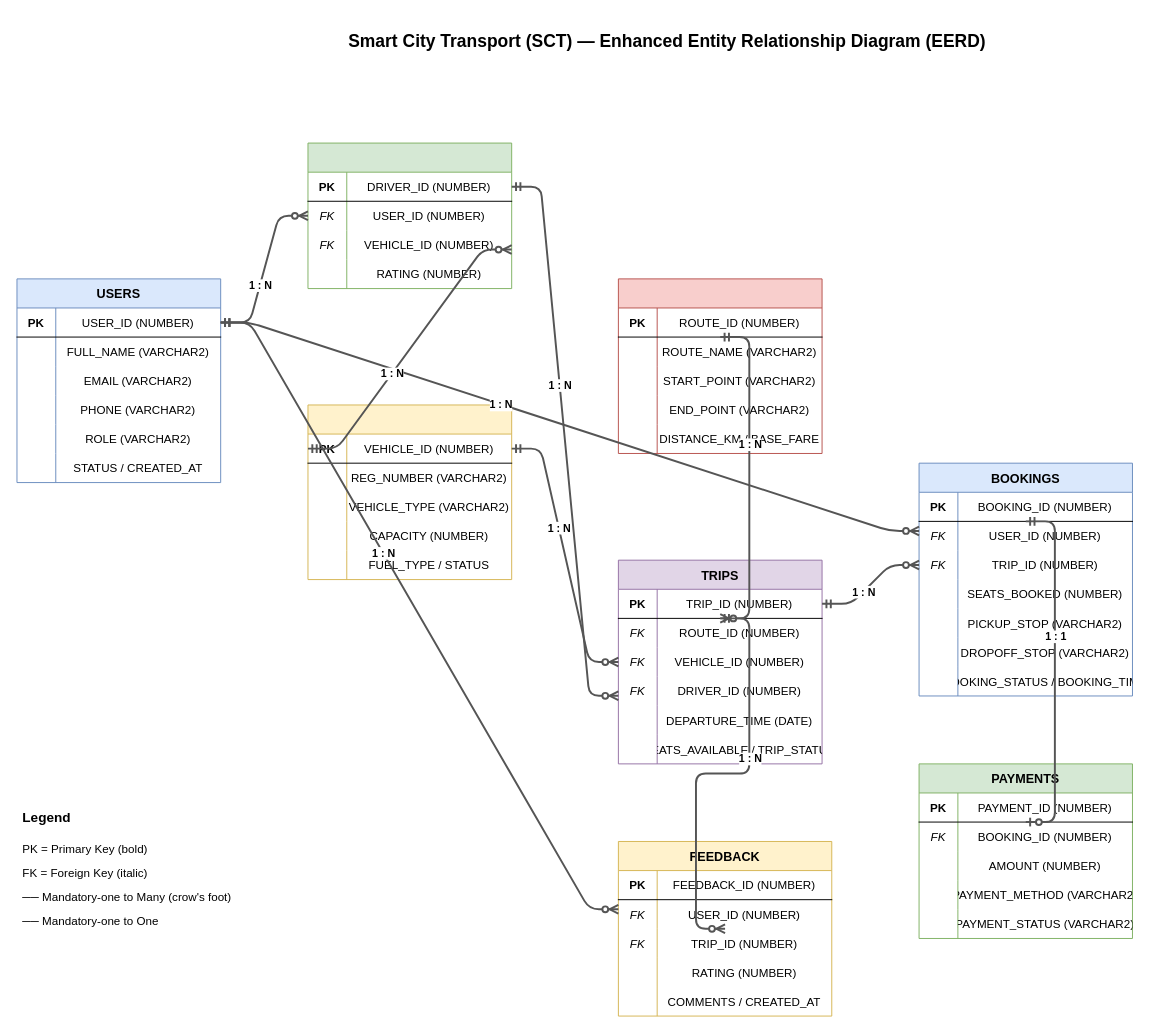
This 1162x1033 diagram has some shape labels left out. Here are the shapes that lost their labels. From the top down, the box of each, then its label:
(307, 142, 512, 289): DRIVERS
(617, 278, 822, 453): ROUTES
(307, 404, 512, 580): VEHICLES
